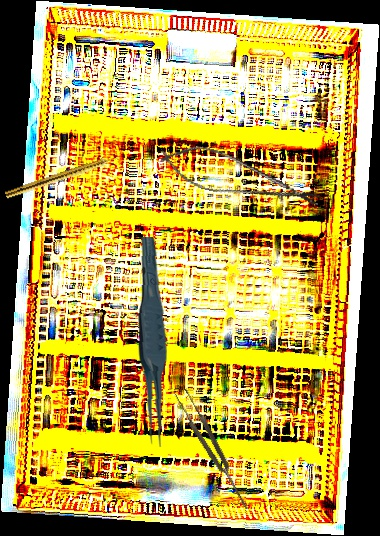Handpiece: (4, 152, 121, 202)
Micro Scissor: (154, 136, 325, 219)
Tissue Forceps: (173, 387, 254, 514), (131, 237, 172, 447)
